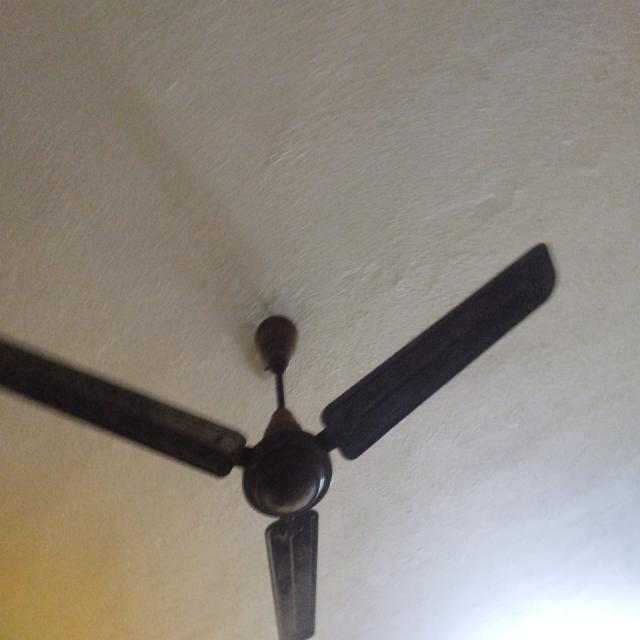fan_off: (1, 237, 561, 640)
